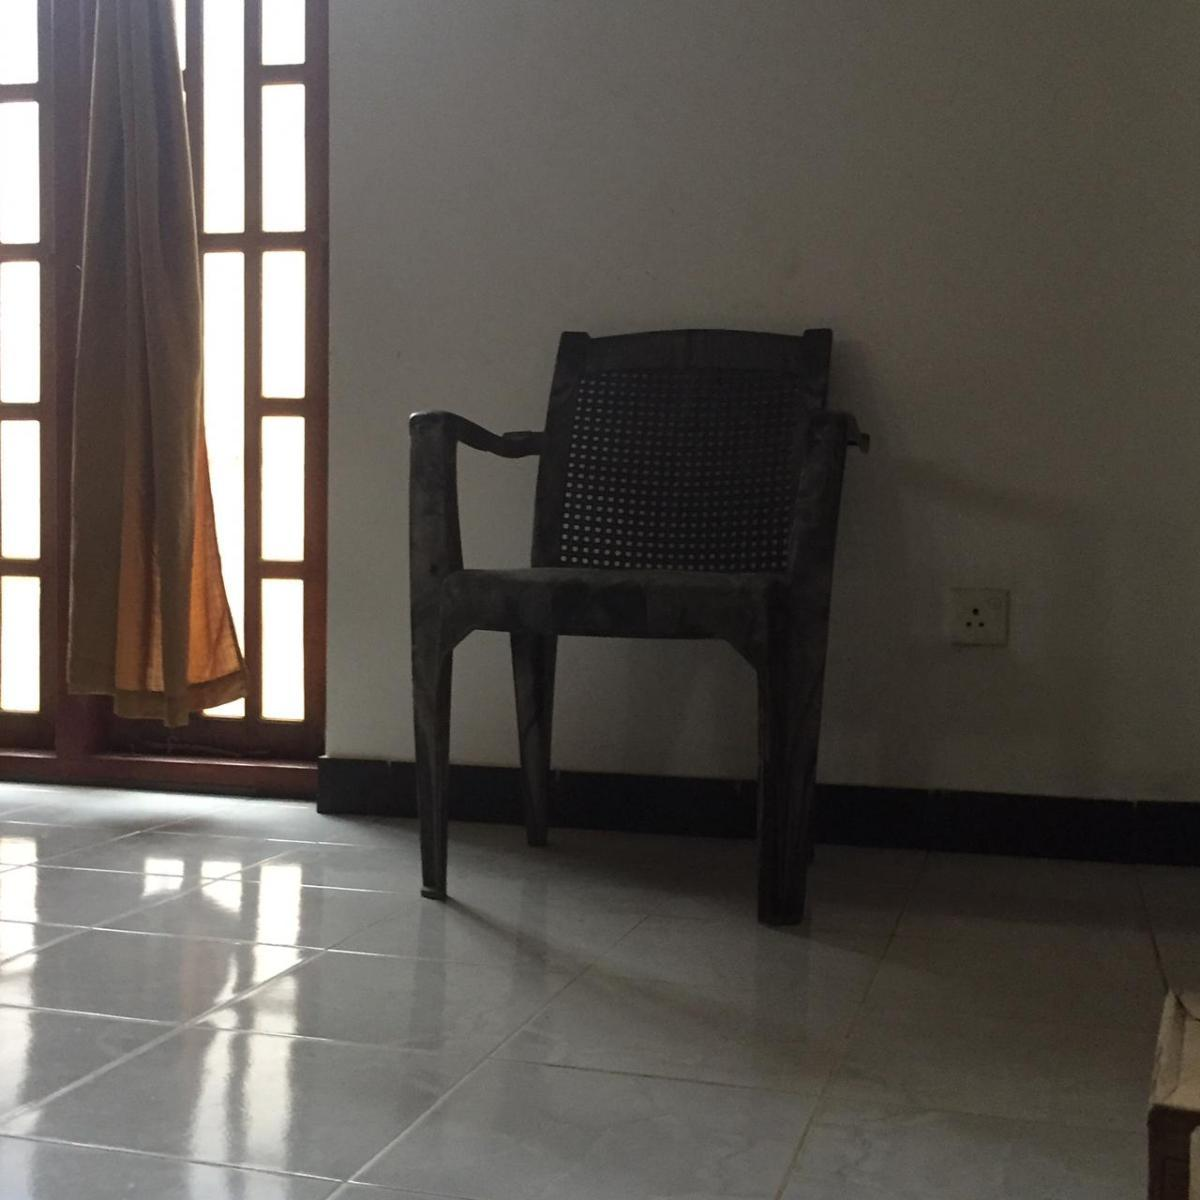Chair: (406, 322, 871, 925)
